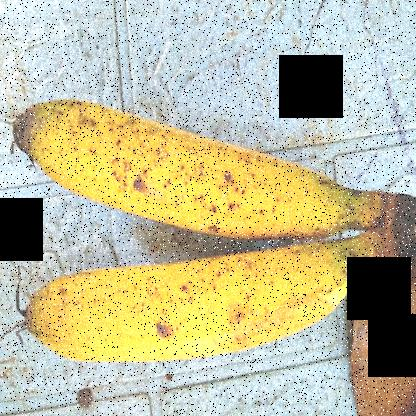ripe: (6, 84, 373, 260), (1, 243, 353, 392)
